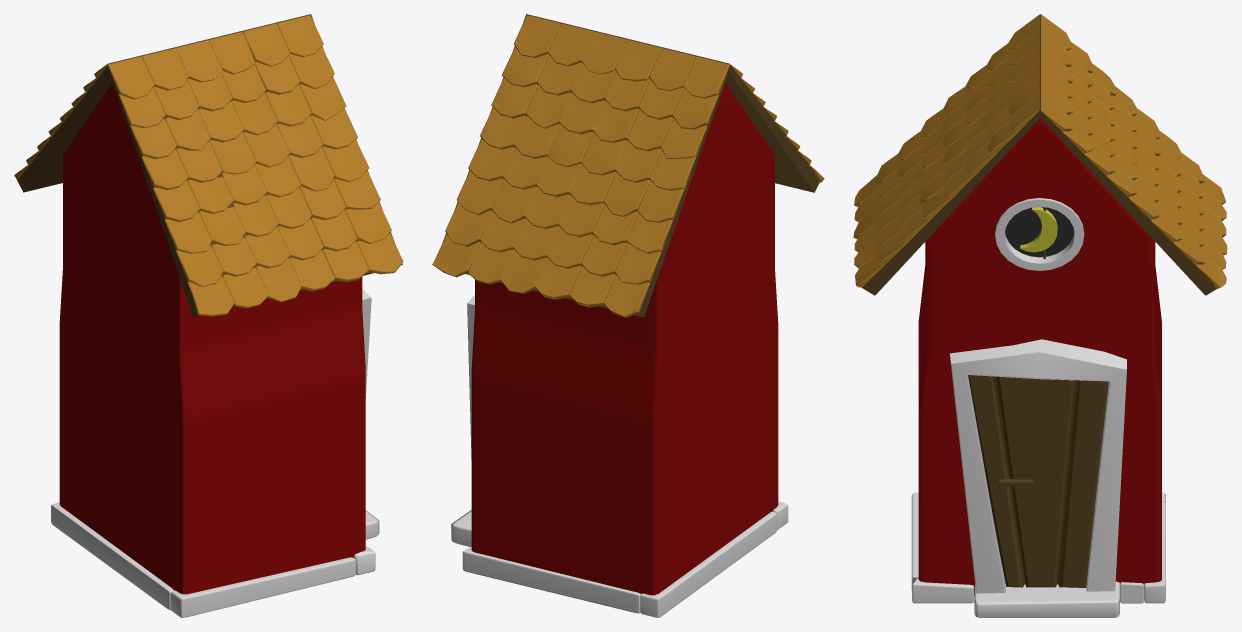
Rendered from outhouse_rampage.fbx.
3 renders of one model, left to right at view 1: azimuth 30°, elevation 25°; view 2: azimuth 150°, elevation 25°; view 3: azimuth 270°, elevation 25°, orthographic. The views are drawn at different scales.
Visible parts, largest first — view 1: pCube65; view 2: pCube65; view 3: pCube65.
Part boxes in pixels (<box>): pCube65: <box>14,14,403,617</box>; pCube65: <box>432,14,824,617</box>; pCube65: <box>853,14,1227,617</box>.
Bounding box in the file's own units: 0.2574 × 0.5191 × 0.355.
